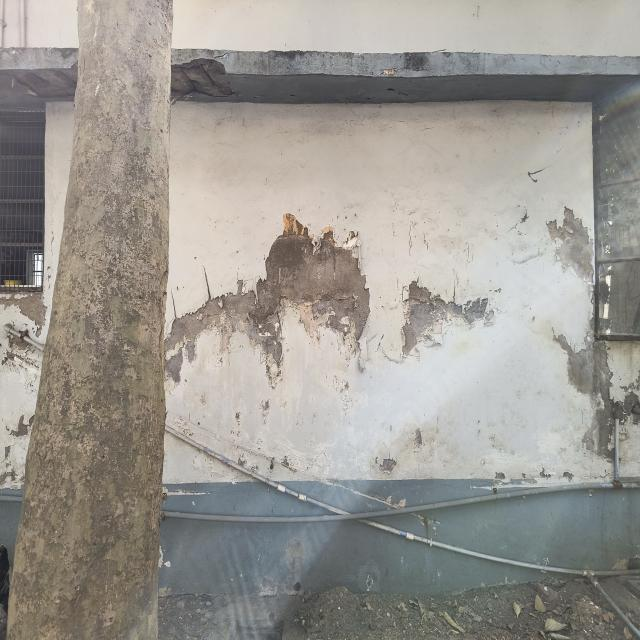peeling: (165, 214, 369, 386), (546, 208, 640, 467), (401, 281, 487, 356), (0, 412, 34, 487), (2, 337, 42, 392), (0, 290, 47, 334)
